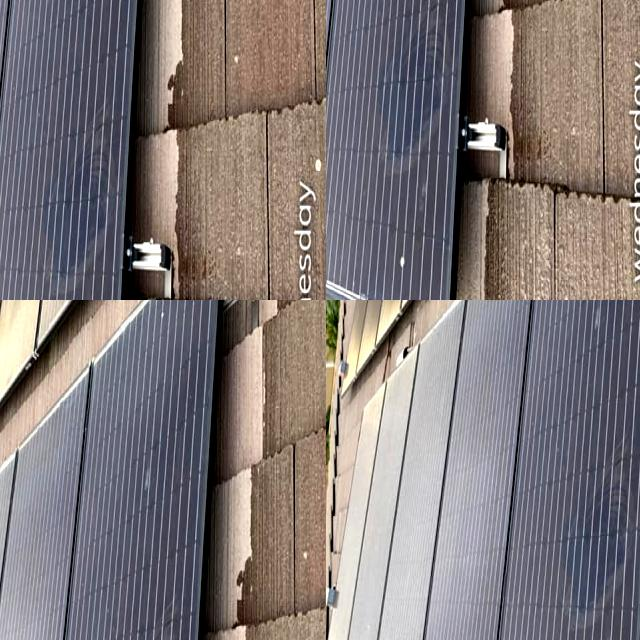crack: (209, 0, 326, 136), (51, 527, 168, 640), (112, 526, 222, 640), (0, 519, 100, 640), (19, 72, 92, 175), (0, 510, 55, 640), (0, 521, 58, 640), (0, 466, 32, 542), (0, 465, 33, 537), (0, 485, 37, 542)
dust: (544, 300, 627, 640), (423, 349, 461, 640), (470, 300, 498, 640), (505, 300, 533, 640)
panel: (326, 0, 357, 78), (326, 0, 361, 45), (326, 0, 369, 33), (326, 0, 359, 29), (326, 0, 361, 16), (326, 0, 354, 17)
